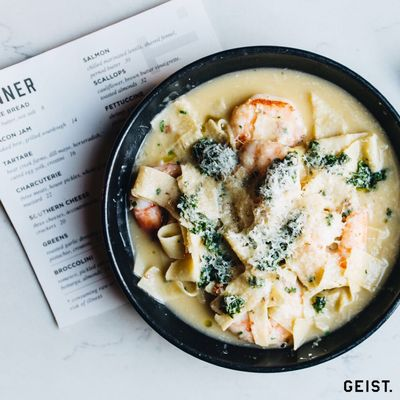curry: (192, 137, 238, 181), (346, 160, 386, 191), (221, 295, 247, 316)
sushi: (101, 24, 400, 378)
